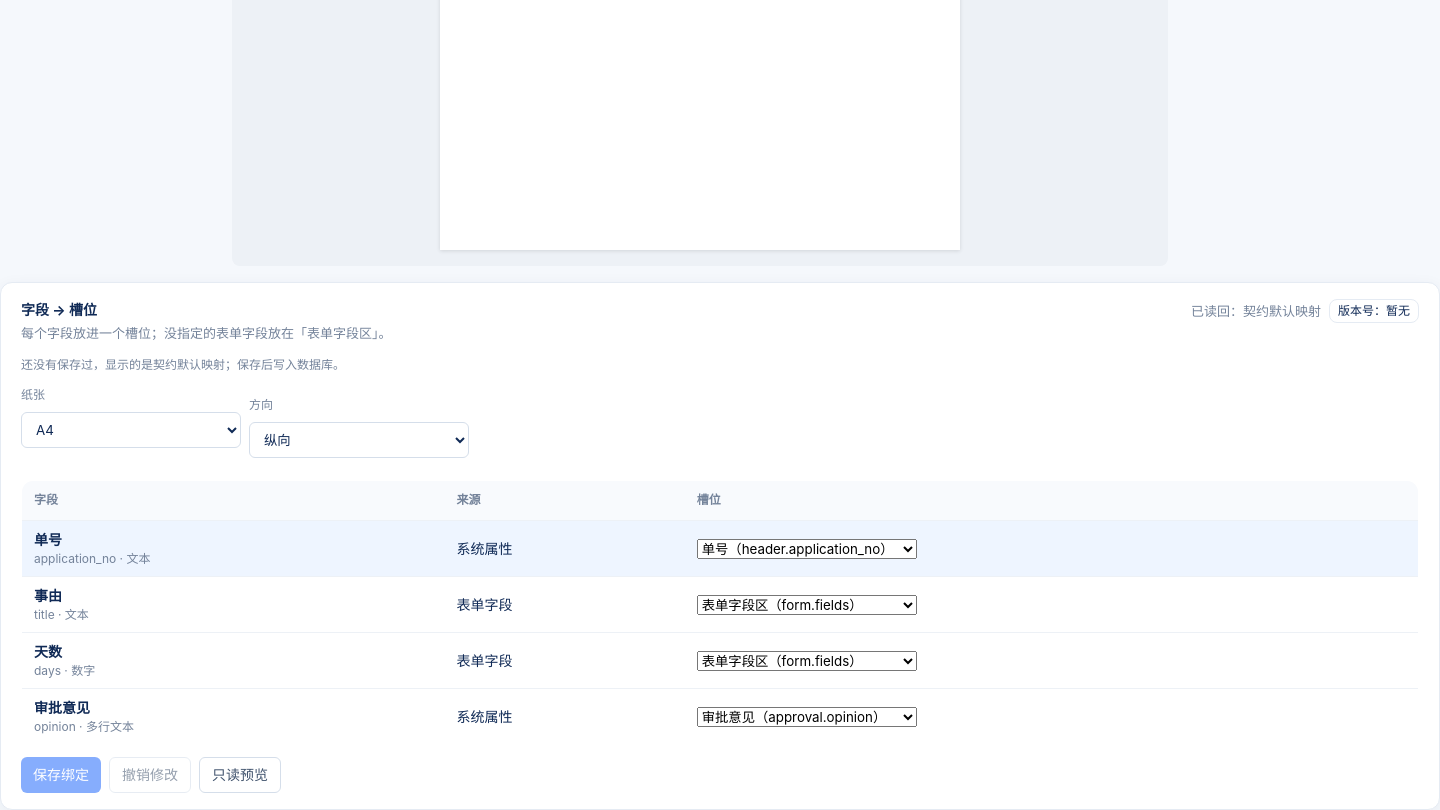
Test: field → slot binding UI (CF-RD2) › saves the draft with PUT and reports the read-back
The image size is (1440, 810).
(page scrolled)
Select "未映射（落入表单字段区）" in the dropdown with test id "designer-binding-opinion": (807, 717) [697,707,917,727]
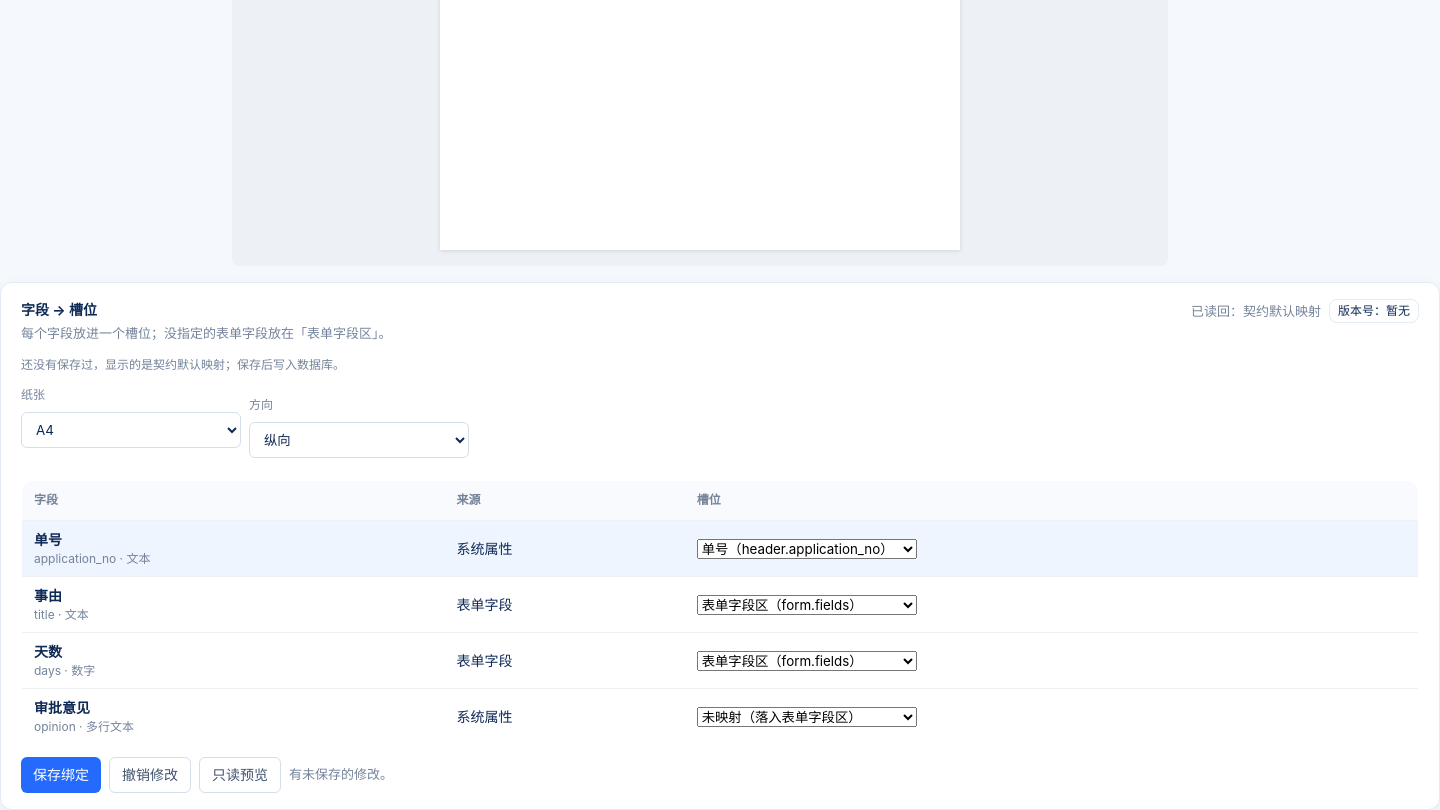
Click the button with test id "designer-binding-save": (61, 775) [21,757,101,793]
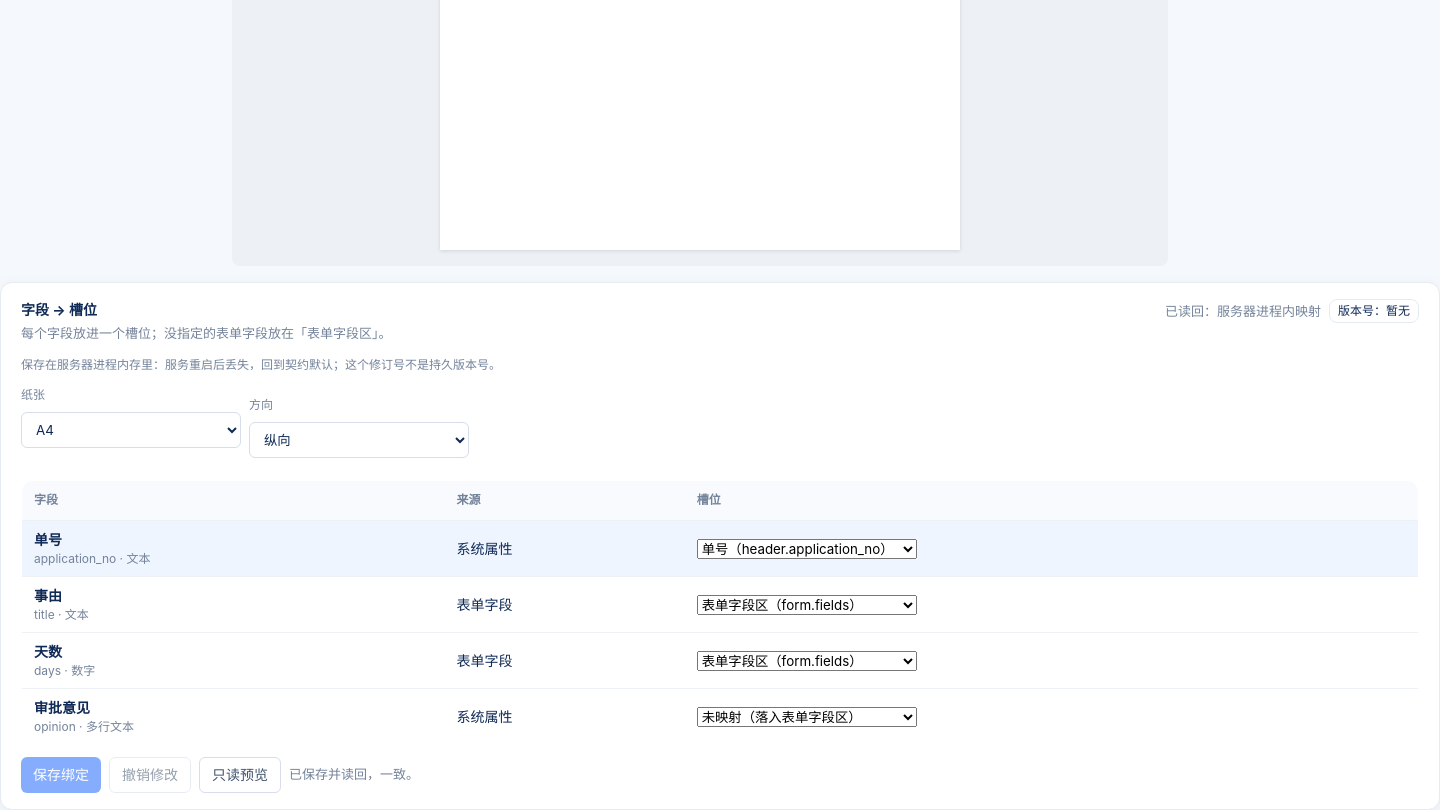
expect the text with test id "designer-binding-readback" shows "读回，一致": met, box [289,766,419,782]
expect the text with test id "designer-binding-source" shows "进程内映射": met, box [1165,303,1321,319]
